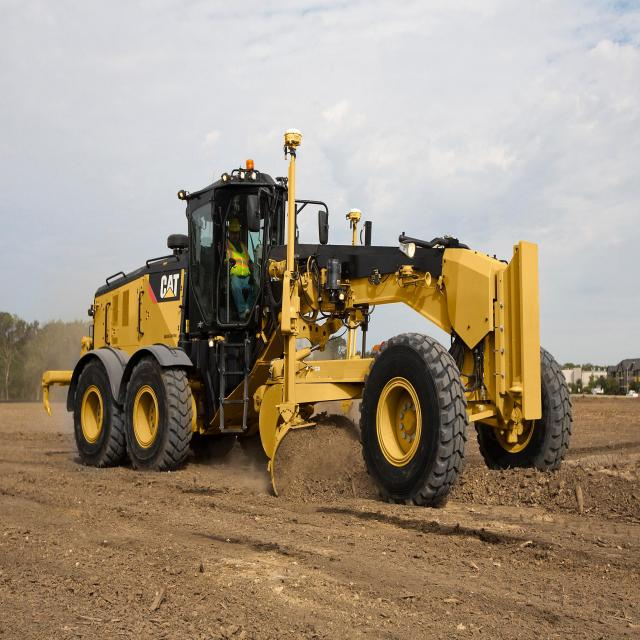Grader: (41, 126, 577, 529)
